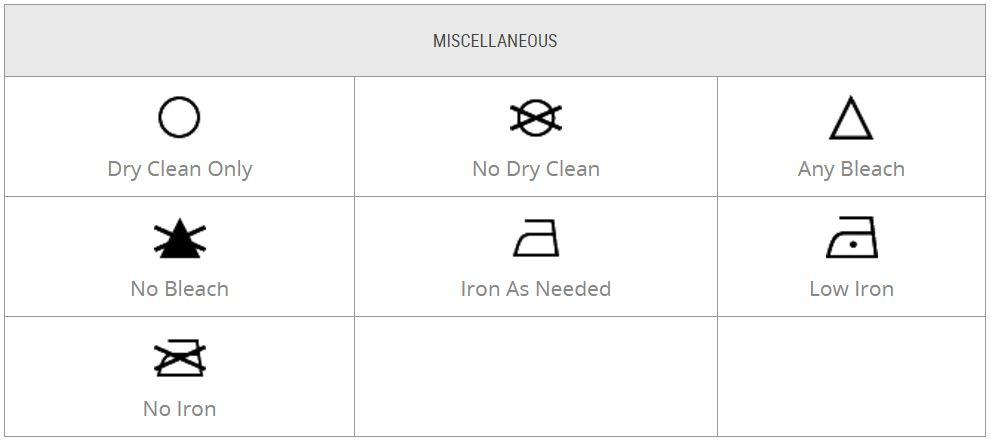do_not_bleach: (152, 212, 210, 261)
do_not_dry_clean: (508, 96, 567, 137)
do_not_iron: (152, 334, 207, 381)
